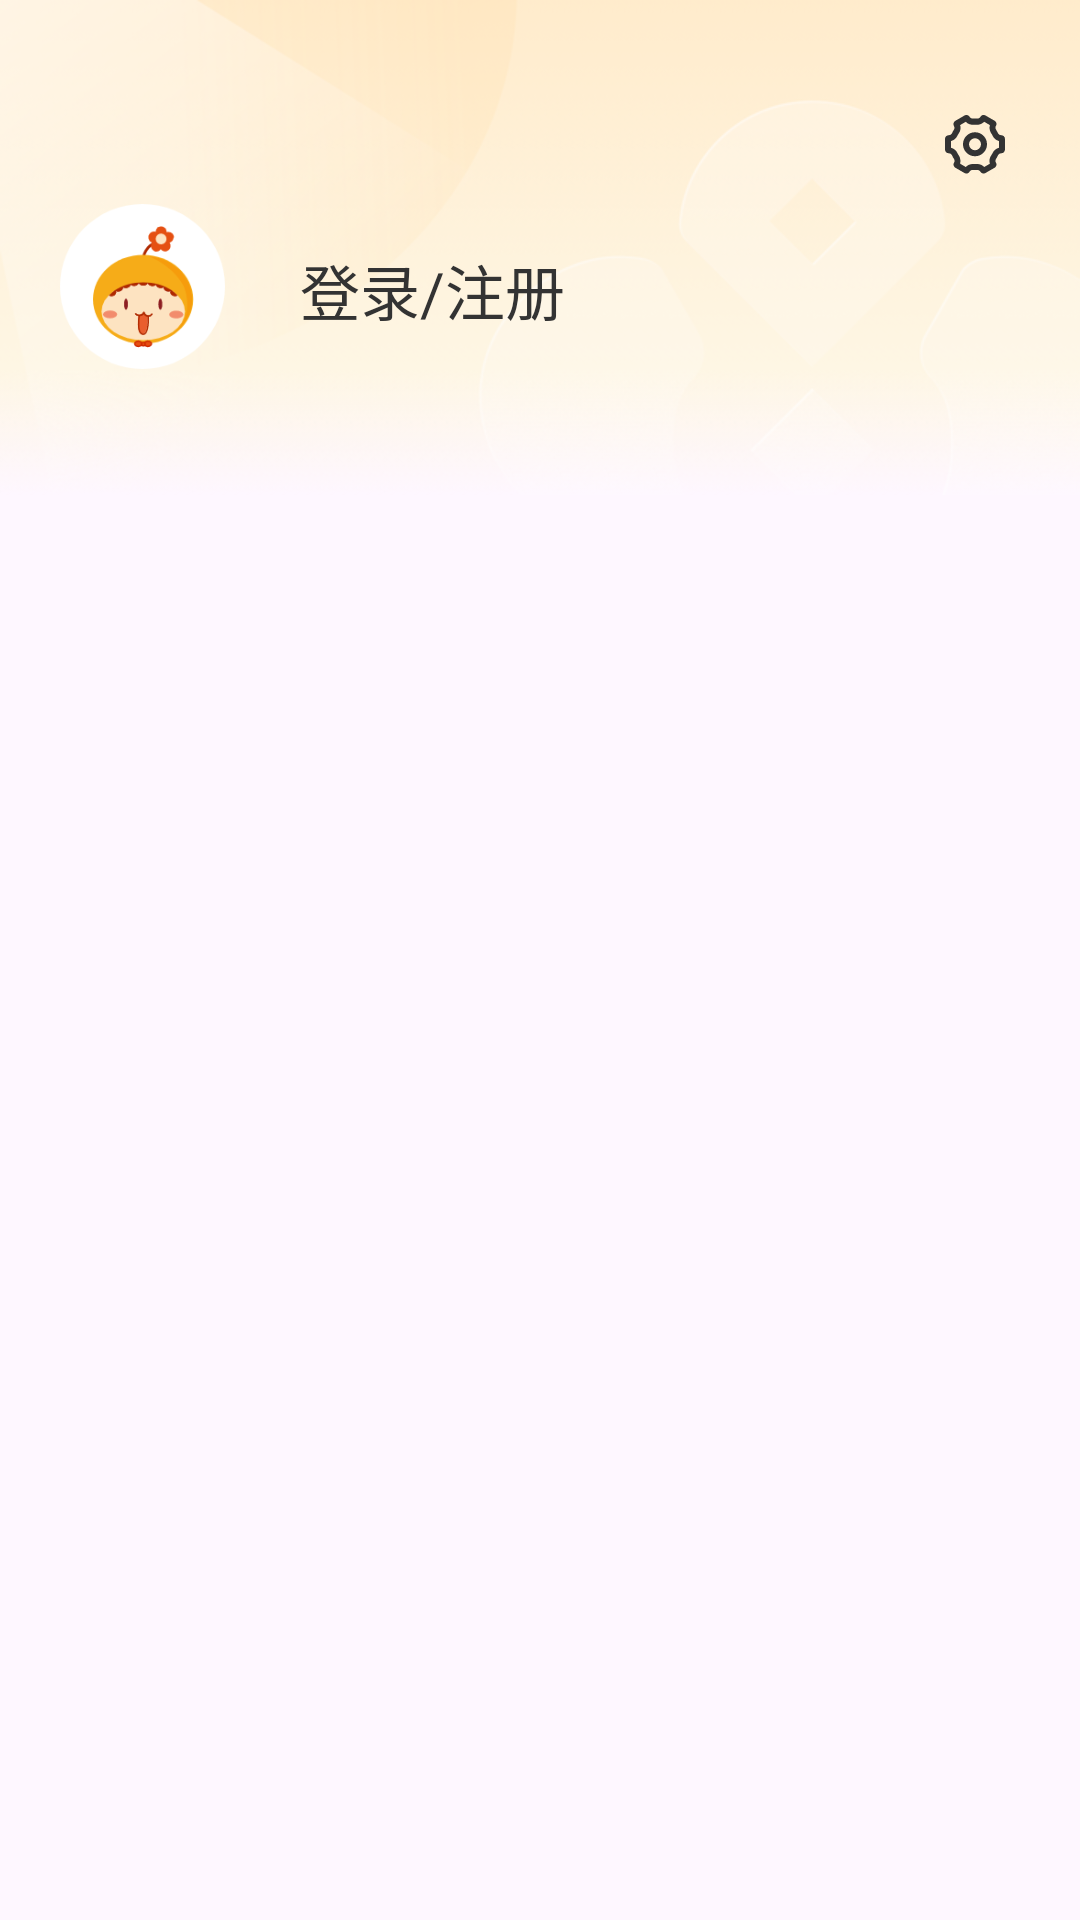

Icons on this 1080w x 1920h Android screen, each with its box as (x1, y1, x2, y2):
info settings: (945, 115, 1005, 174)
myinfo login head: (60, 204, 225, 369)
